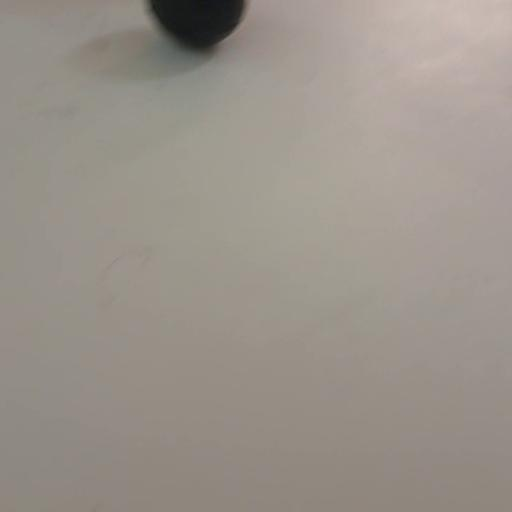dead: (146, 0, 248, 49)
